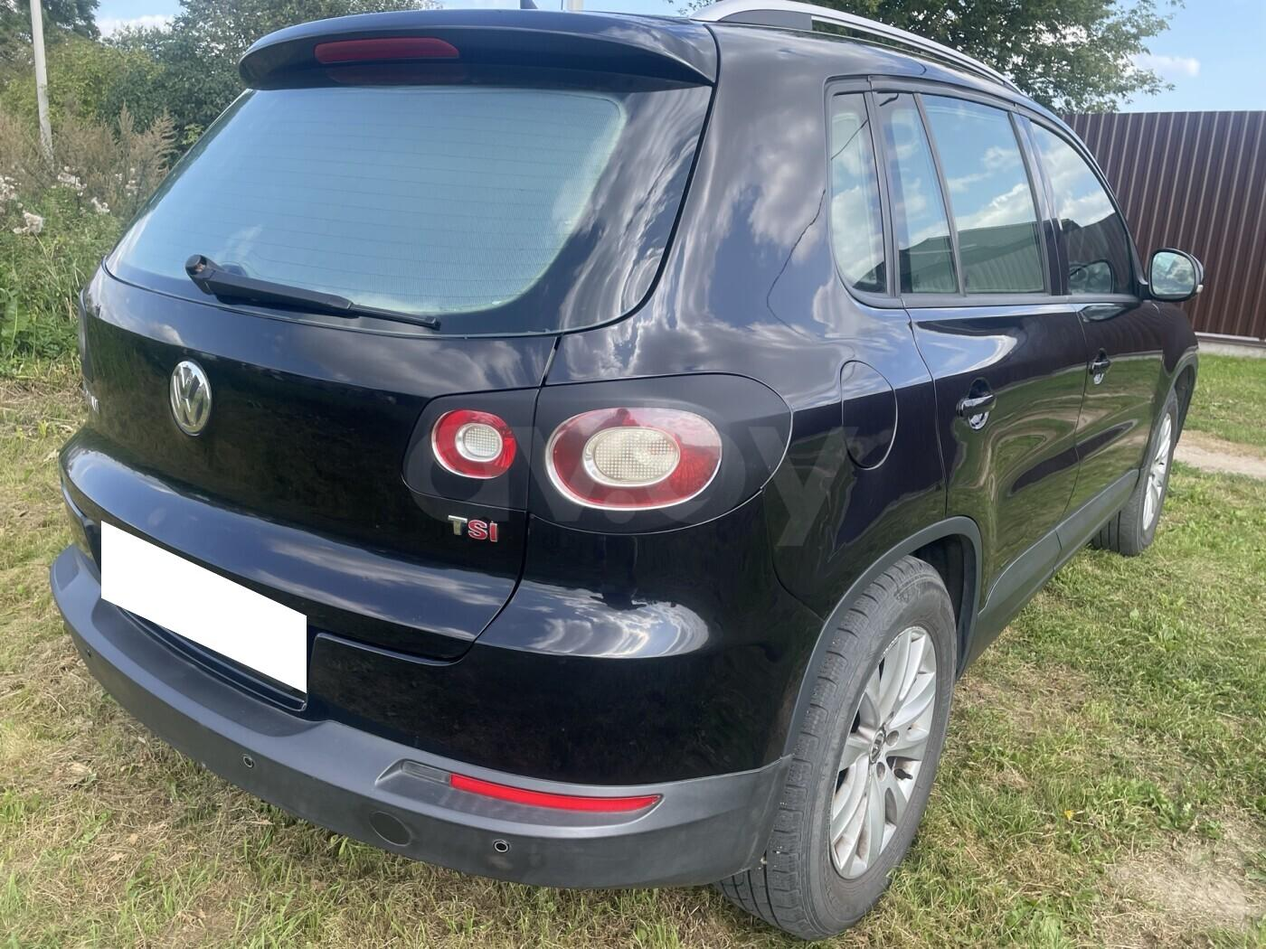Tiguan_2007-2011: (40, 6, 1207, 924)
